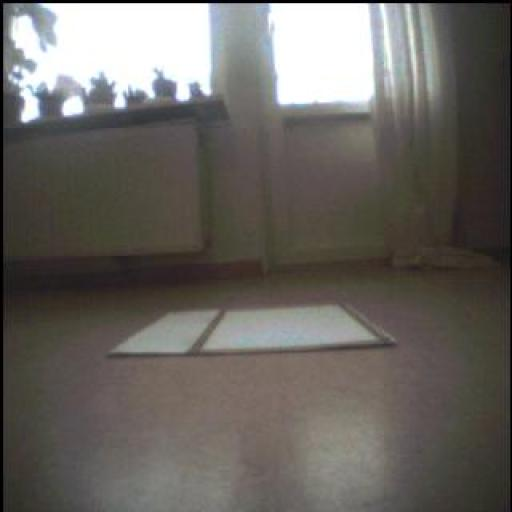Pad: (105, 295, 395, 357)
